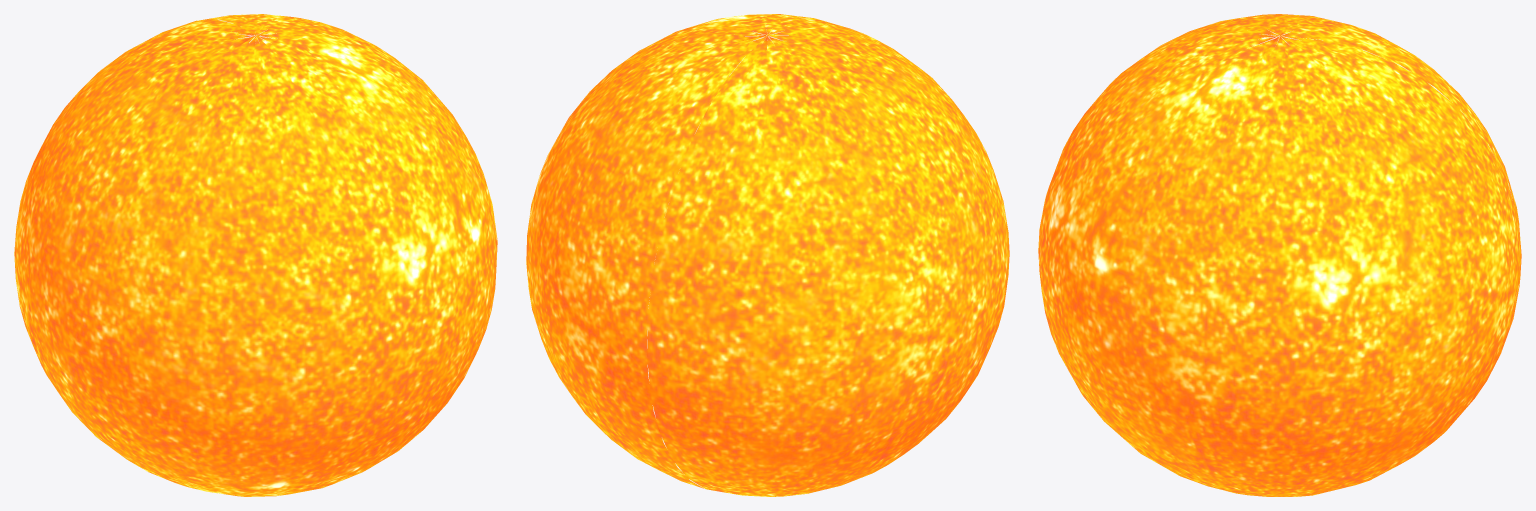
File: sun.glb
3 views of the same model, side by side, from view 1: azimuth 30°, elevation 25°; view 2: azimuth 150°, elevation 25°; view 3: azimuth 270°, elevation 25° (orthographic).
Visible parts, largest first — view 1: UnstableStarref_2_0; view 2: UnstableStarref_2_0; view 3: UnstableStarref_2_0.
Part boxes in pixels (x1=…): UnstableStarref_2_0: x1=14, y1=14, x2=497, y2=496; UnstableStarref_2_0: x1=526, y1=14, x2=1009, y2=496; UnstableStarref_2_0: x1=1038, y1=14, x2=1521, y2=496.
Bounding box in the file's own units: 52.23 × 52.48 × 52.24.
1 material, 1 textured.
